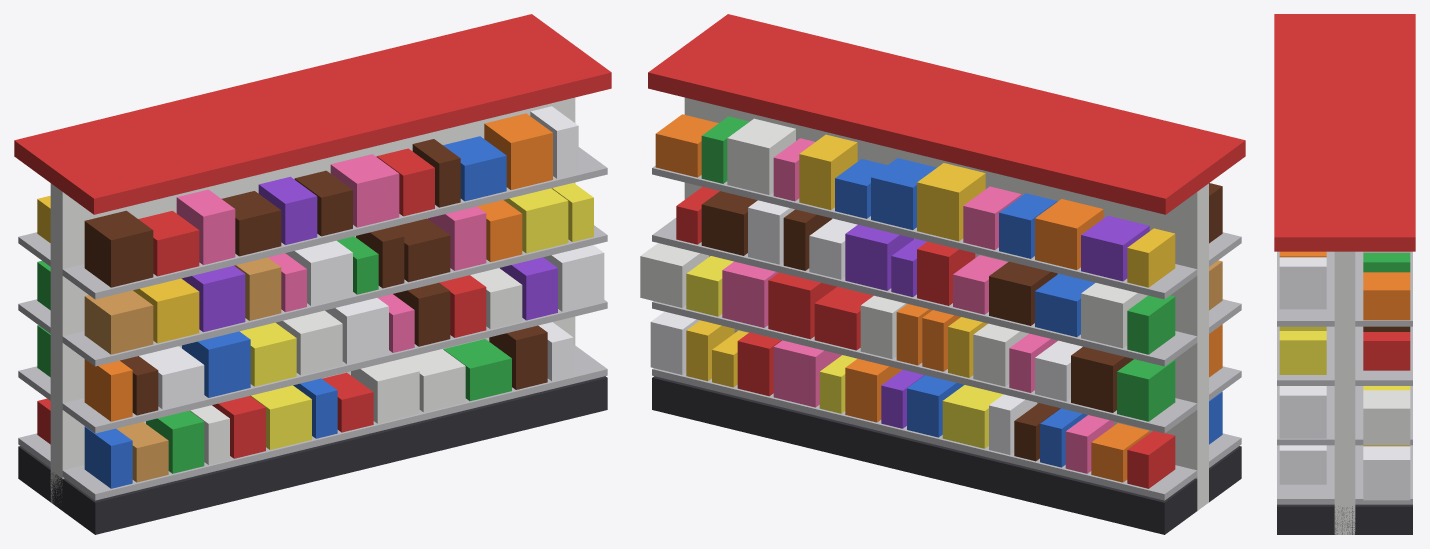
File: GroceryShelf.fbx
The picture shows the model from 3 angles, left to right: view 1: azimuth 30°, elevation 25°; view 2: azimuth 150°, elevation 25°; view 3: azimuth 270°, elevation 25°; orthographic projection. The views are drawn at different scales.
Parts seen in each view (by area): view 1: GroceryShelf; view 2: GroceryShelf; view 3: GroceryShelf.
Boxes of the visible parts, left/top/right/bottom form: GroceryShelf: left=14, top=14, right=611, bottom=534; GroceryShelf: left=640, top=14, right=1245, bottom=534; GroceryShelf: left=1274, top=14, right=1415, bottom=534.
Size of the model in its own units: 10.31 by 6.3 by 2.7.
Materials: 1 (1 with a texture image).
